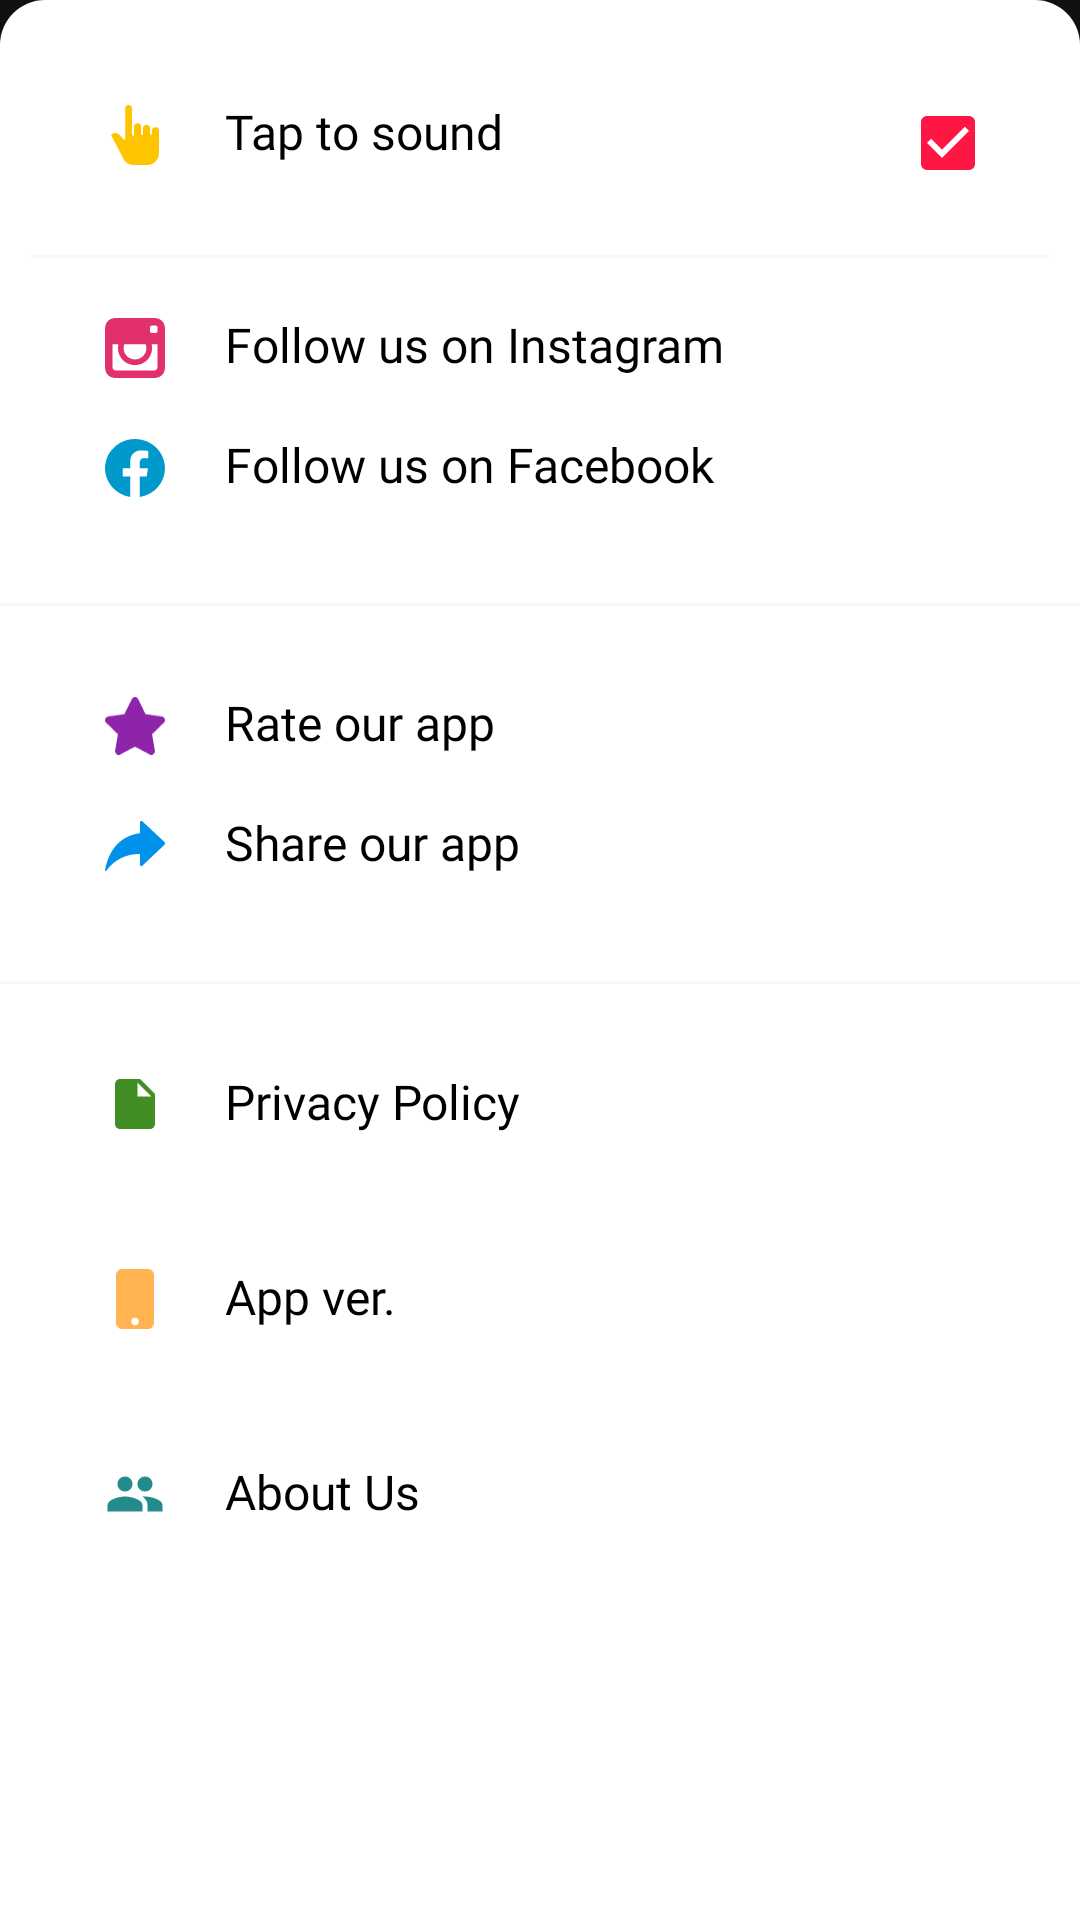

Icon click points for this 1080w x 1920h phone screenshot, format (x,y):
awesome mobile: (135,1299)
awesome star: (135,726)
ionic share: (135,846)
people: (135,1494)
touch sound: (135,135)
